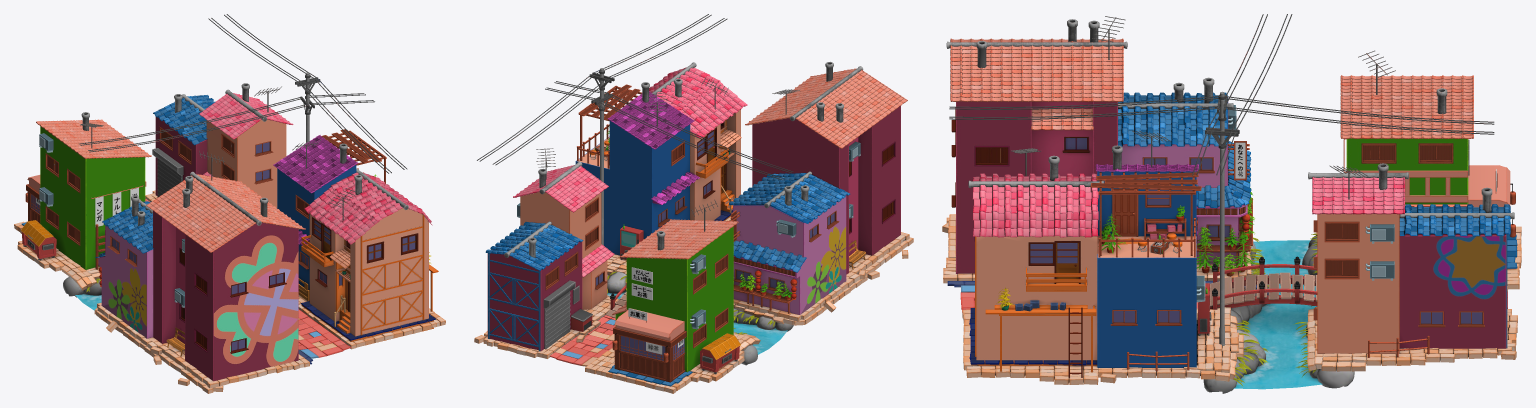
File: stylized_little_japanese_town_street.glb
3 views of the same model, side by side, from view 1: azimuth 30°, elevation 25°; view 2: azimuth 150°, elevation 25°; view 3: azimuth 270°, elevation 25° (orthographic). The views are drawn at different scales.
Visible parts, largest first — view 1: defaultMaterial (×8); view 2: defaultMaterial (×8); view 3: defaultMaterial (×8).
Boxes of the visible parts, x1,y1,x2,y2 form: defaultMaterial (×8): (14,14,445,393); defaultMaterial (×8): (474,14,913,393); defaultMaterial (×8): (942,14,1521,393).
Bounding box in the file's own units: 1035 × 763 × 1430.
Materials: 9 (8 with a texture image).
